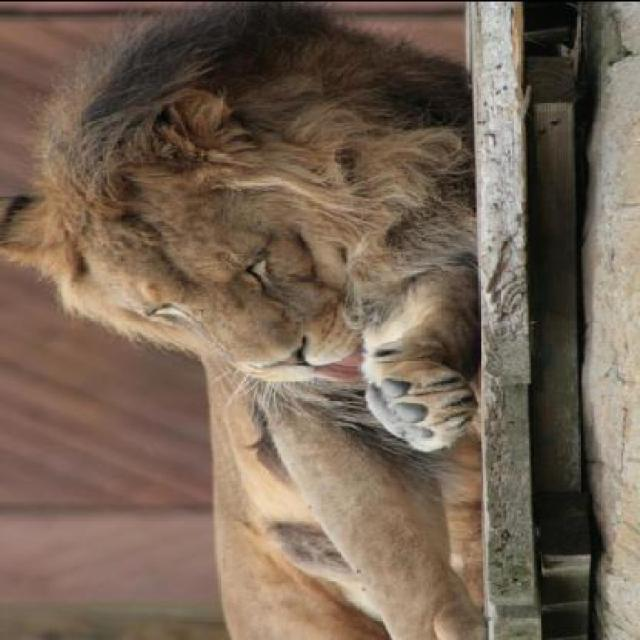Lion: (17, 9, 500, 638)
